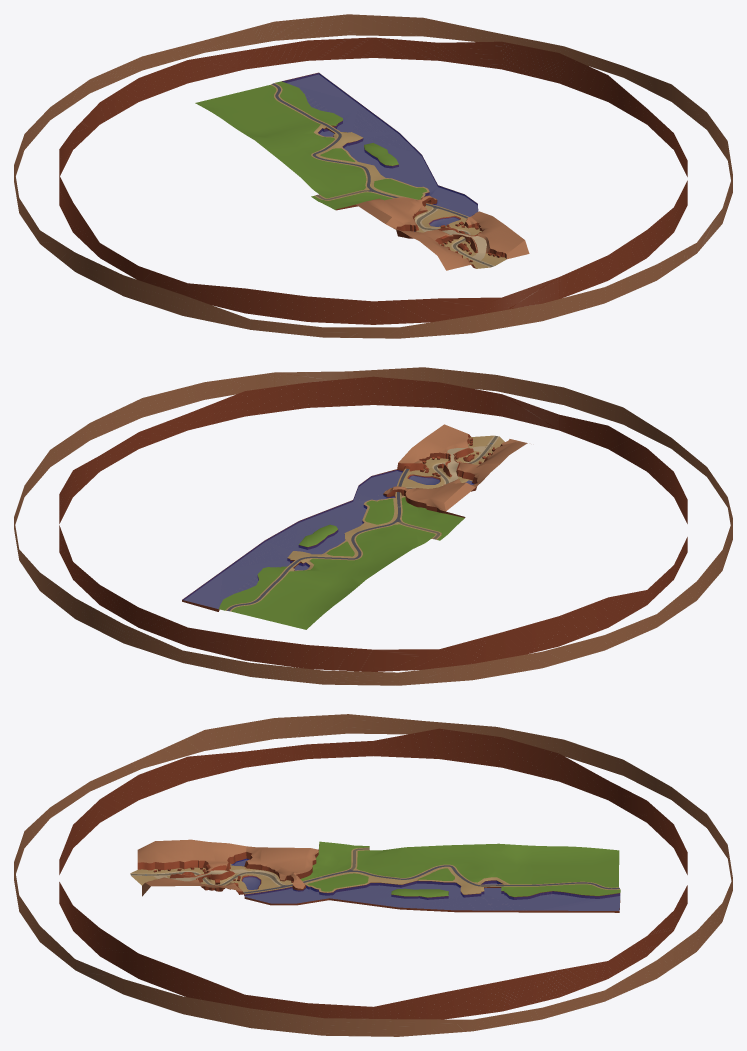
Rendered from cc_canyontrack.FBX.
3 renders of one model, top to bottom at view 1: azimuth 30°, elevation 25°; view 2: azimuth 150°, elevation 25°; view 3: azimuth 270°, elevation 25°, orthographic.
Parts seen in each view (by area): view 1: G_horizon_near, G_ MountainGeomery, G_horizon_far, G_water; view 2: G_horizon_near, G_ MountainGeomery, G_horizon_far, G_water; view 3: G_horizon_near, G_ MountainGeomery, G_horizon_far, G_water.
Boxes of the visible parts, left/top/right/bottom form: G_horizon_near: left=59, top=37, right=687, bottom=324; G_ MountainGeomery: left=195, top=72, right=529, bottom=270; G_horizon_far: left=14, top=14, right=732, bottom=338; G_water: left=282, top=73, right=478, bottom=231; G_horizon_near: left=59, top=376, right=687, bottom=671; G_ MountainGeomery: left=182, top=424, right=527, bottom=629; G_horizon_far: left=14, top=367, right=732, bottom=685; G_water: left=183, top=470, right=474, bottom=608; G_horizon_near: left=59, top=728, right=687, bottom=1019; G_ MountainGeomery: left=130, top=839, right=620, bottom=912; G_horizon_far: left=14, top=714, right=732, bottom=1036; G_water: left=231, top=858, right=620, bottom=910.
Size of the model in its own units: 235823 by 11033 by 236255.
